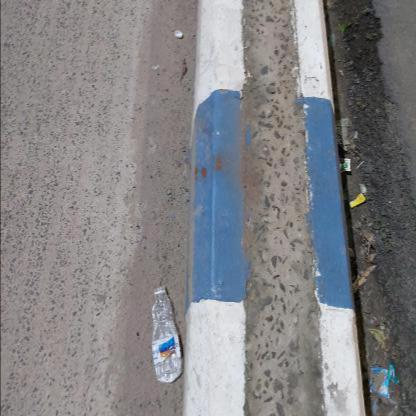Bottle: (174, 31, 182, 39)
Bottle cap: (151, 286, 181, 384)
Plastic bag - wrapper: (370, 367, 389, 398), (349, 193, 365, 208), (389, 361, 399, 384), (340, 158, 352, 172)
